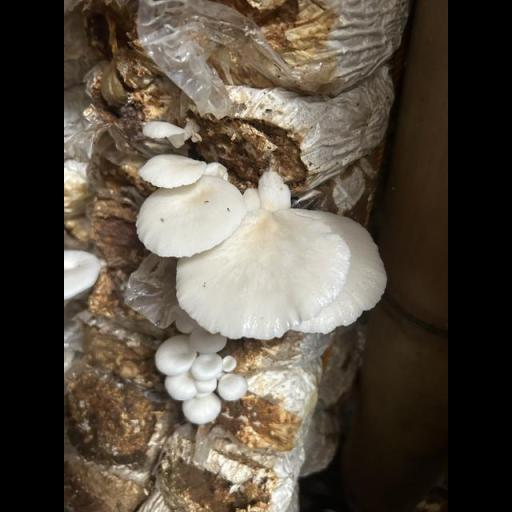White Oyster Mushroom: (134, 111, 391, 341), (130, 333, 262, 440)
